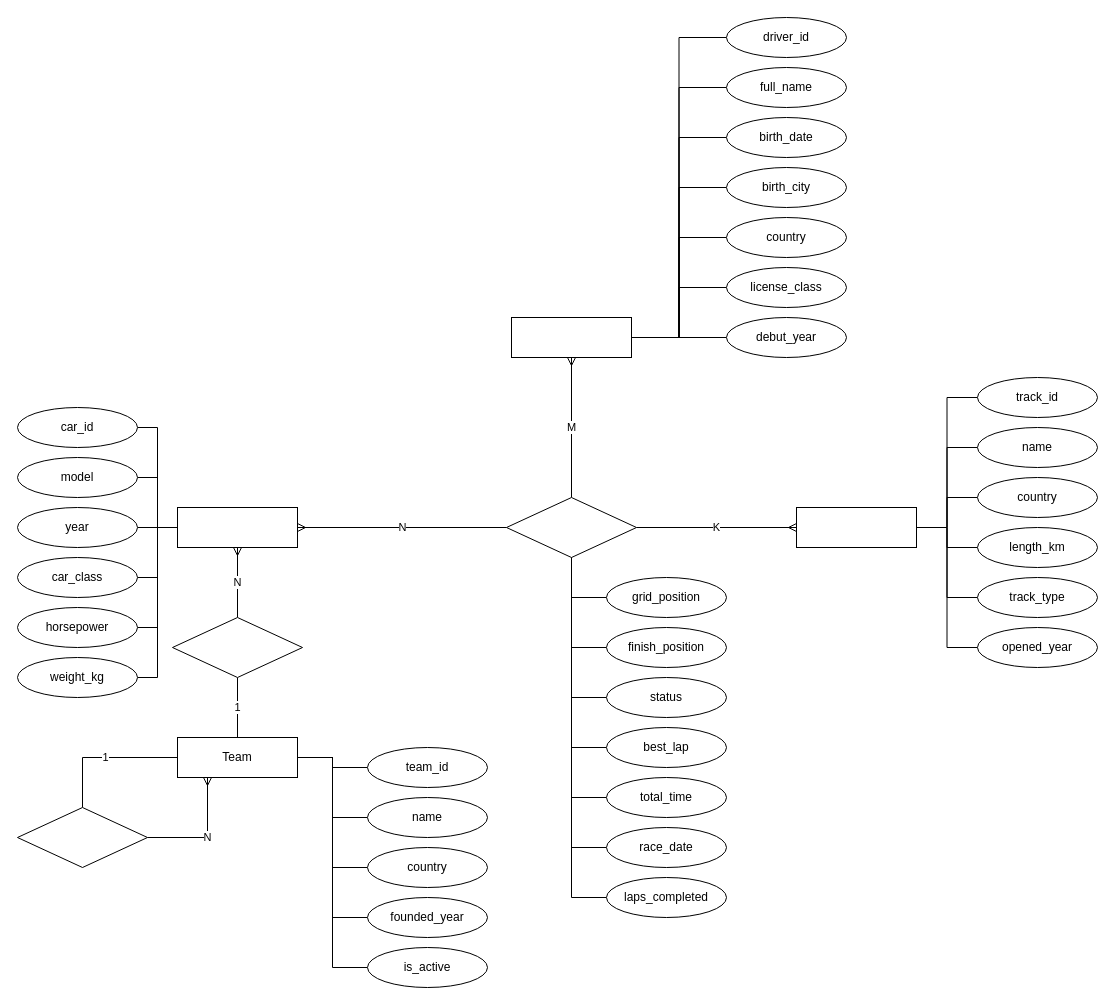
Some shapes in this 1115 by 1005 pixel diagram are drawn without their labels. The box of each missing label's shape, as (x1, y1, x2, y2) in pixels:
Belongs_to: (172, 616, 302, 678)
Car: (176, 506, 298, 548)
Driver: (510, 316, 632, 358)
Parent: (16, 806, 148, 868)
Race_entry: (506, 496, 636, 558)
Track: (796, 506, 916, 548)
